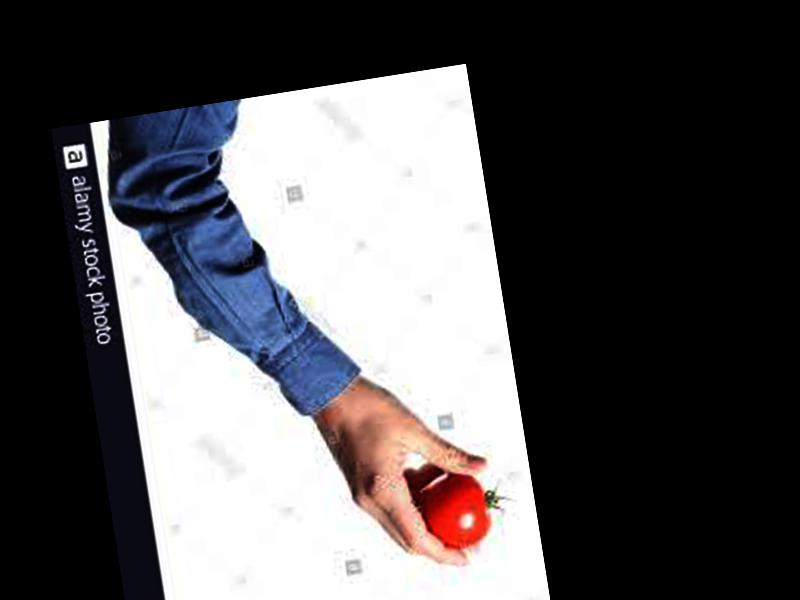Tomato: (420, 472, 492, 554)
